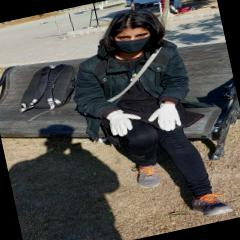gloved: (146, 98, 184, 134), (105, 106, 144, 138)
